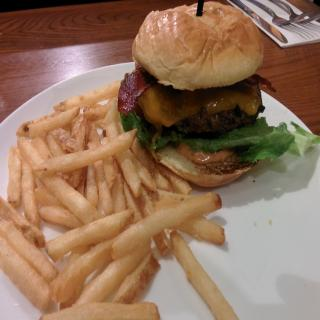French fries: (11, 90, 218, 304)
Hamburger: (117, 0, 320, 187)
